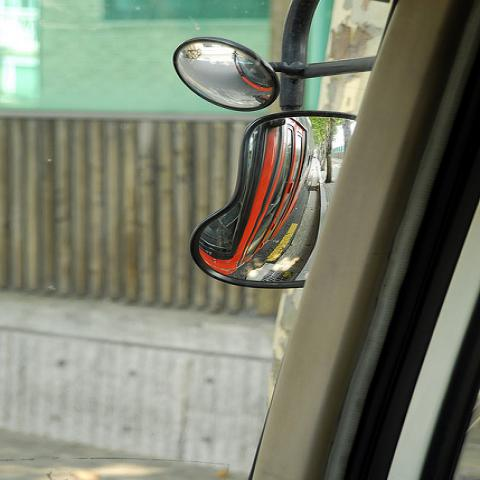bus: (173, 1, 479, 473)
